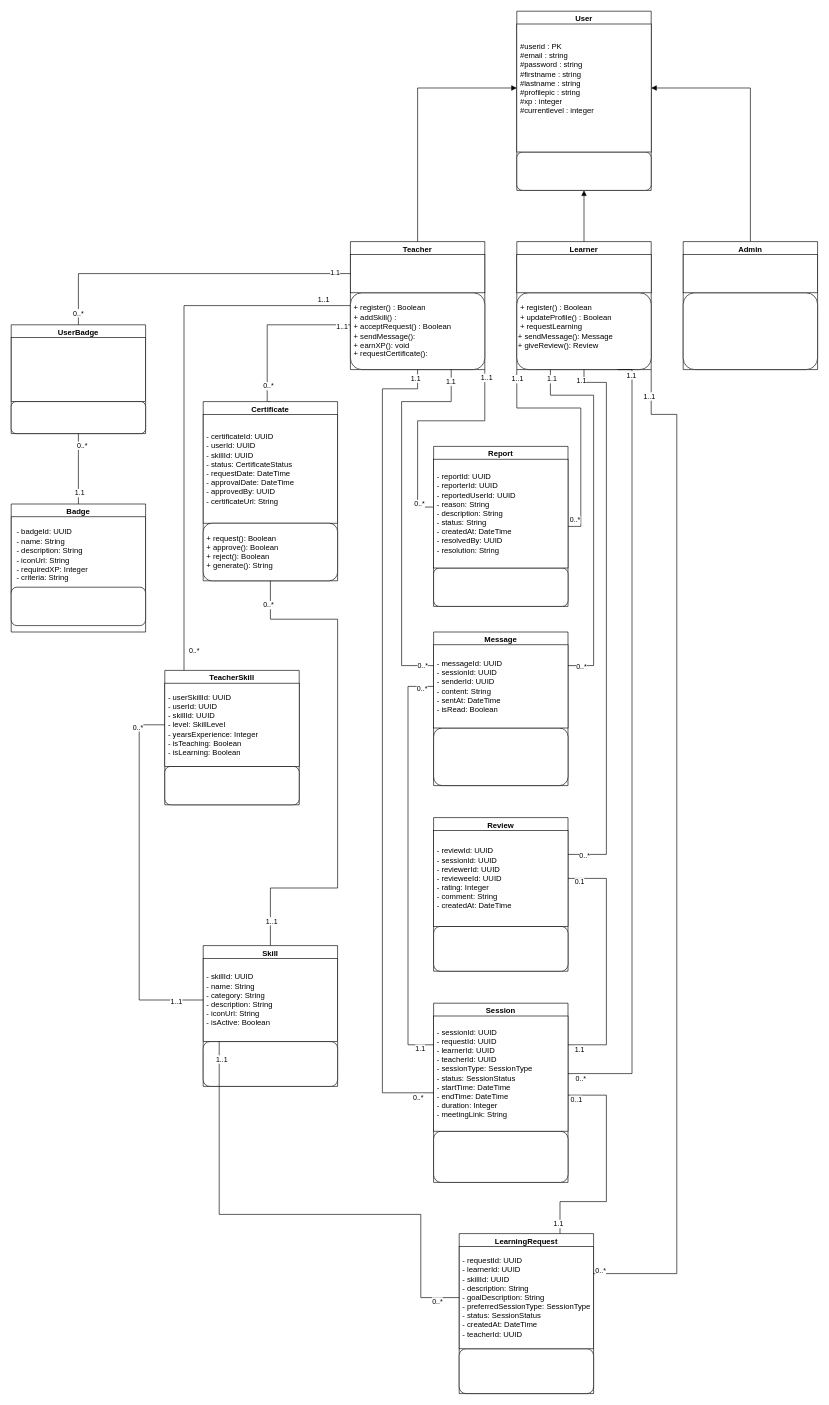
This 829x1405 diagram has some shape labels left out. Each missing label, with the centre of its shape:
"+ award(): UserBadge" belongs at [78,606].
"+ create(): Boolean + cancel(): Boolean + assignTeacher(): Boolean" belongs at [526,1371].
"+ create(): Boolean + update(): Boolean + delete(): Boolean" belongs at [270,1063].
"+ send(): Boolean + edit(): Boolean + delete(): Boolean" belongs at [500,756].
"+ start(): Boolean + end(): Boolean + complete(): Boolean" belongs at [500,1156].
"+ submit(): Boolean + resolve(): Boolean" belongs at [500,586].
"+ submit(): Boolean + update(): Boolean" belongs at [500,948].
"+ updateLevel(): Boolean" belongs at [231,785].
"+login() :" belongs at [583,170].
"- userBadgeId: UUID - userId: UUID - badgeId: UUID - earnedAt: DateTime" belongs at [78,369].
